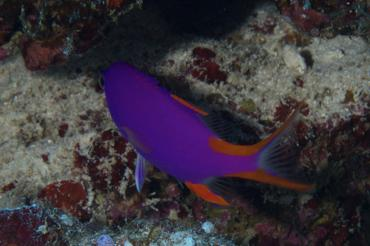Serranidae -Groupers-: (92, 56, 313, 208)
